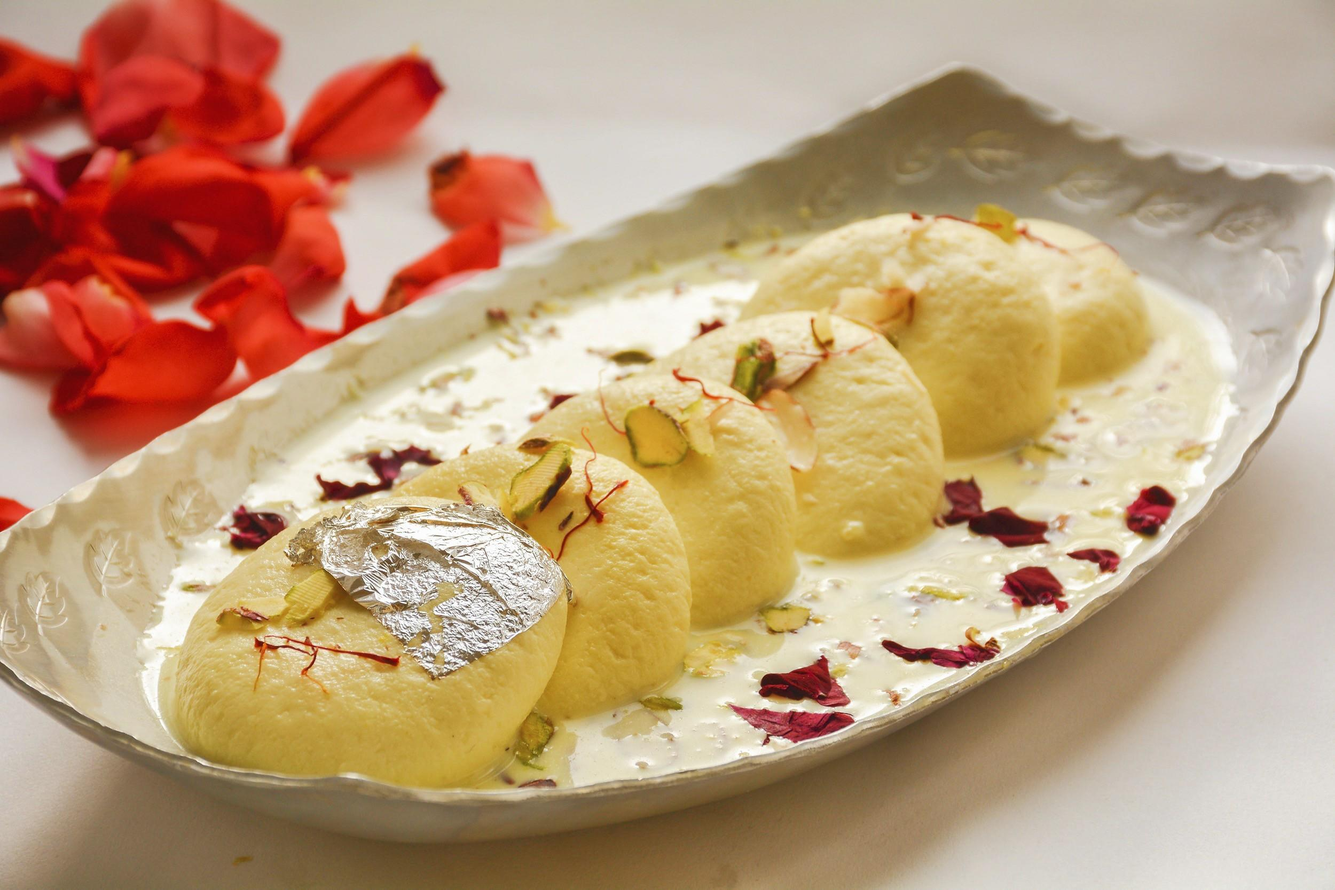RasMalai: (139, 202, 1234, 793)
